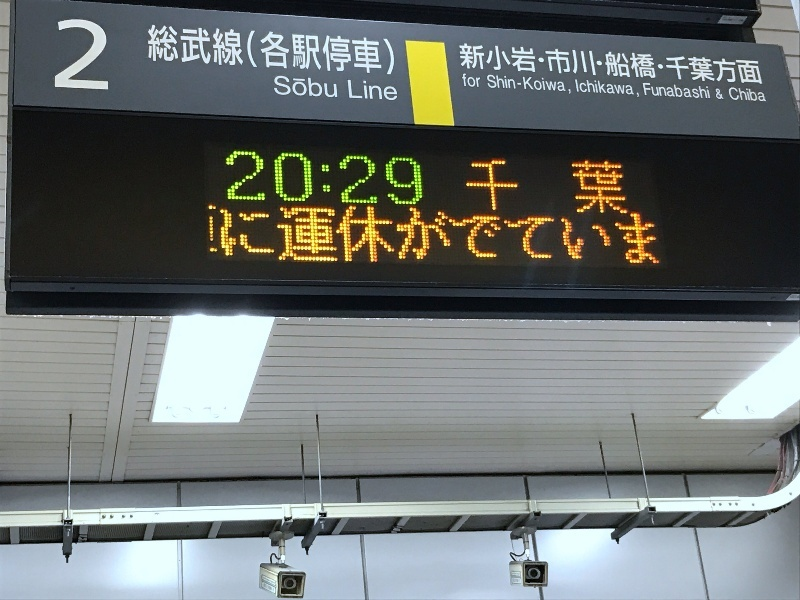text: (65, 17, 80, 91), (81, 17, 96, 91), (209, 204, 224, 267), (225, 204, 240, 267), (241, 204, 256, 267), (257, 204, 272, 267), (273, 204, 288, 267), (289, 204, 304, 267), (305, 204, 320, 267), (321, 204, 336, 267), (337, 204, 352, 267), (353, 204, 368, 267), (369, 204, 384, 267), (385, 204, 400, 267), (401, 204, 416, 267), (417, 204, 432, 267), (433, 204, 448, 267), (449, 204, 464, 267), (465, 204, 480, 267), (481, 204, 496, 267), (497, 204, 512, 267), (513, 204, 528, 267), (529, 204, 544, 267), (545, 204, 560, 267), (561, 204, 576, 267), (577, 204, 592, 267), (593, 204, 608, 267), (609, 204, 624, 267), (625, 204, 640, 267), (641, 204, 656, 267), (97, 17, 109, 91), (577, 159, 592, 216), (593, 159, 608, 216), (609, 159, 624, 216), (225, 151, 240, 207), (241, 151, 256, 207), (257, 151, 272, 207), (273, 151, 288, 207), (289, 151, 304, 207), (305, 151, 320, 207), (321, 151, 336, 207), (337, 151, 352, 207), (353, 151, 368, 207), (369, 151, 384, 207), (385, 151, 400, 207), (401, 151, 416, 207), (465, 159, 480, 212), (481, 159, 496, 212), (497, 159, 512, 212), (161, 24, 176, 76), (177, 24, 192, 76), (193, 24, 208, 76), (209, 24, 224, 76), (225, 24, 240, 76), (241, 24, 256, 76), (257, 24, 272, 76), (273, 24, 288, 76), (289, 24, 304, 76), (305, 24, 320, 76), (321, 24, 336, 76), (337, 24, 352, 76), (353, 24, 368, 76), (369, 24, 384, 76), (147, 24, 160, 76), (55, 17, 64, 91), (465, 43, 480, 86), (481, 43, 496, 86), (497, 43, 512, 86), (513, 43, 528, 86), (529, 43, 544, 86), (545, 43, 560, 86), (561, 43, 576, 86), (577, 43, 592, 86), (593, 43, 608, 86), (609, 43, 624, 86), (625, 43, 640, 86), (641, 43, 656, 86), (657, 43, 672, 86), (673, 43, 688, 86), (689, 43, 704, 86), (705, 43, 720, 86), (721, 43, 736, 86), (737, 43, 752, 86), (385, 24, 396, 76), (753, 43, 763, 86), (417, 151, 424, 207), (273, 76, 288, 99), (289, 76, 304, 99), (305, 76, 320, 99), (321, 76, 336, 99), (570, 159, 576, 216), (513, 159, 519, 212), (353, 81, 368, 102), (369, 81, 384, 102), (625, 80, 641, 98), (385, 81, 398, 102), (497, 75, 512, 93), (513, 75, 528, 93), (529, 75, 544, 93), (545, 75, 560, 93), (577, 80, 592, 98), (593, 80, 608, 98), (609, 80, 624, 98), (458, 43, 464, 86), (657, 83, 672, 100), (673, 83, 688, 100), (689, 83, 704, 100), (642, 83, 656, 100), (561, 75, 573, 93), (465, 74, 480, 88), (737, 88, 752, 102), (753, 88, 768, 102), (486, 75, 496, 93), (346, 81, 352, 102), (727, 88, 736, 102), (206, 204, 208, 267), (657, 204, 659, 267), (705, 83, 711, 100), (715, 88, 720, 101), (625, 159, 626, 216), (721, 88, 725, 101), (574, 80, 576, 98), (462, 74, 464, 88), (337, 76, 338, 99), (481, 74, 482, 88)
